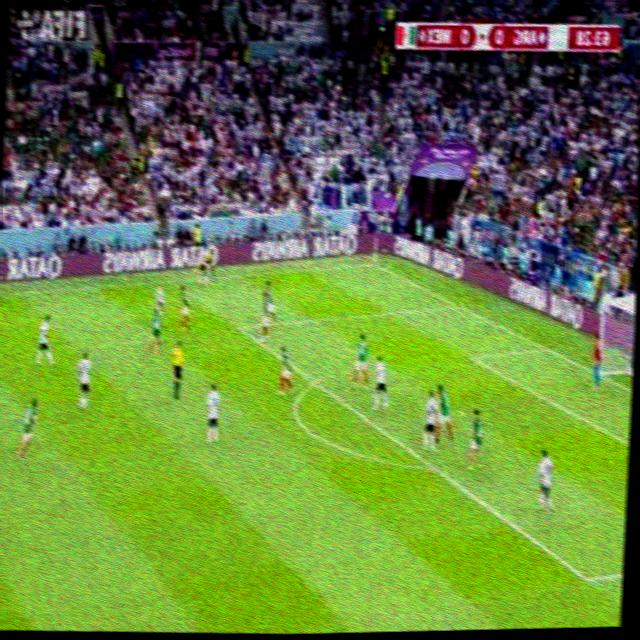bigarea_bottom_inner: (579, 571, 595, 587)
bigarea_top_inner: (230, 318, 246, 337)
bigarea_top_outter: (454, 302, 463, 312)
bottom_arc_area_intersection: (427, 461, 441, 477)
corner: (365, 262, 378, 268)
smallarea_top_inner: (465, 351, 476, 363)
smallarea_top_outter: (541, 342, 550, 354)
top_arc_area_intersection: (308, 375, 321, 391)
